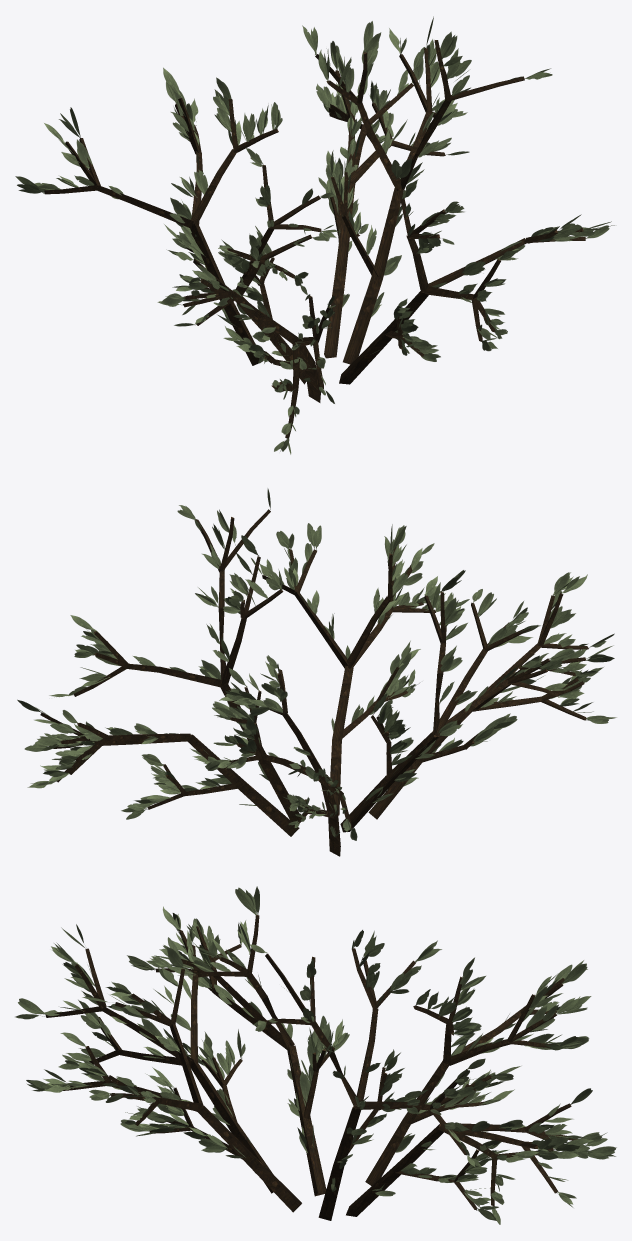
File: heather_dwarf_v02_LOD1.glb
3 renders of one model, top to bottom at view 1: azimuth 30°, elevation 25°; view 2: azimuth 150°, elevation 25°; view 3: azimuth 270°, elevation 25°, orthographic. The views are drawn at different scales.
Parts seen in each view (by area): view 1: heather_dwarf_v02_LOD1; view 2: heather_dwarf_v02_LOD1; view 3: heather_dwarf_v02_LOD1.
Boxes of the visible parts, x1,y1,x2,y2 form: heather_dwarf_v02_LOD1: (15,16,614,454); heather_dwarf_v02_LOD1: (17,488,616,856); heather_dwarf_v02_LOD1: (15,886,616,1224).
Size of the model in its own units: 0.631 by 0.4091 by 0.7152.
Materials: 2 (2 with a texture image).
